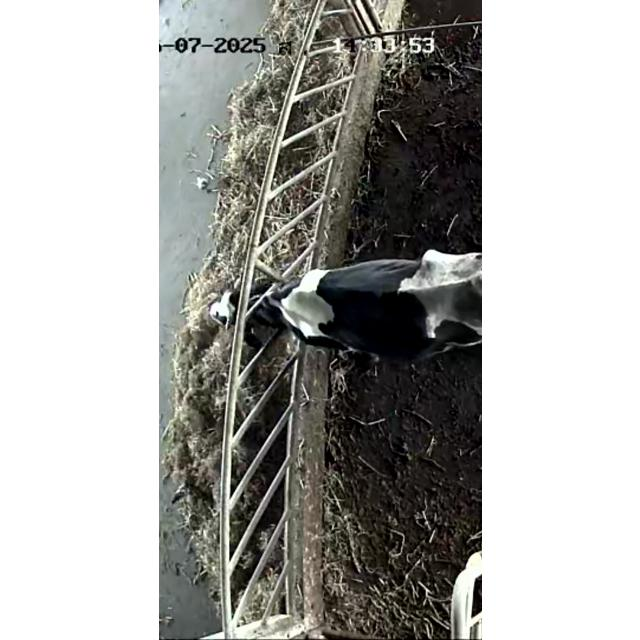eat: (176, 245, 336, 365)
